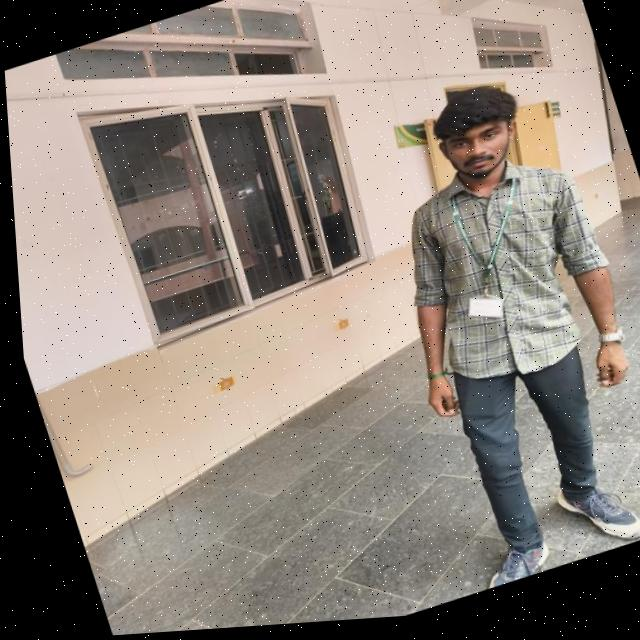id_card: (419, 174, 544, 342)
